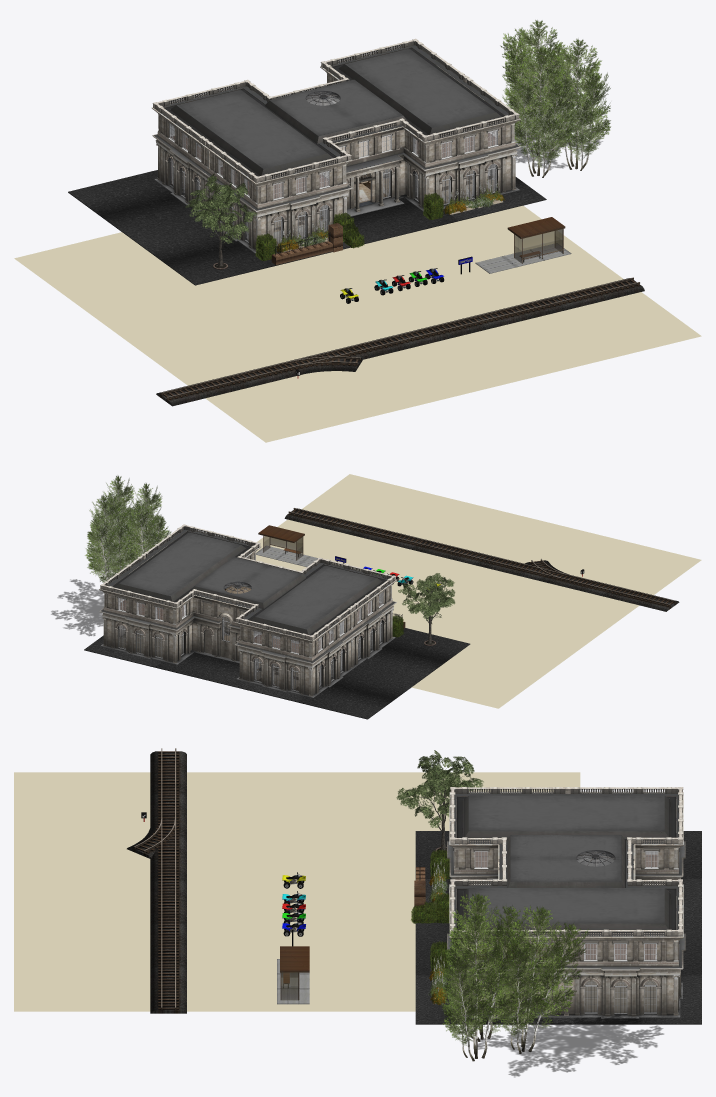
3 views of the same model, one above another, from view 1: azimuth 30°, elevation 25°; view 2: azimuth 150°, elevation 25°; view 3: azimuth 270°, elevation 25° (orthographic). The views are drawn at different scales.
Visible parts, largest first — view 1: Terrain 2,4, Compulsion Manor House (×16), Birch_Tree_1A (×11), Driveway, TRACKSTRAIGHT32 Rail (×6), Bus Stop, CP Young Oak Tree 3, Trinity Bay Manor 1, Train TRACKCURVE 01 prim, Trinity Bay Manor; view 2: Terrain 2,4, Compulsion Manor House (×20), Driveway, Birch_Tree_1A (×8), TRACKSTRAIGHT32 Rail (×6), CP Young Oak Tree 3, Tree Shadlow 25x25, Bus Stop, Trinity Bay Manor; view 3: Terrain 2,4, Compulsion Manor House (×19), Birch_Tree_1A (×10), TRACKSTRAIGHT32 Rail (×6), Driveway, Tree Shadlow 25x25, CP Young Oak Tree 3, Bus Stop, Trinity Bay Manor 1, Train TRACKCURVE 01 prim.
Boxes of the visible parts, bbox=[...] form: Terrain 2,4: bbox=[14, 205, 701, 442]; Compulsion Manor House (×16): bbox=[152, 48, 520, 253]; Birch_Tree_1A (×11): bbox=[500, 20, 610, 160]; Driveway: bbox=[68, 170, 546, 285]; TRACKSTRAIGHT32 Rail (×6): bbox=[156, 277, 644, 406]; Bus Stop: bbox=[475, 217, 571, 273]; CP Young Oak Tree 3: bbox=[185, 173, 257, 244]; Trinity Bay Manor 1: bbox=[255, 223, 342, 264]; Train TRACKCURVE 01 prim: bbox=[288, 356, 363, 373]; Trinity Bay Manor: bbox=[209, 184, 255, 249]; Terrain 2,4: bbox=[256, 474, 701, 708]; Compulsion Manor House (×20): bbox=[99, 531, 396, 697]; Driveway: bbox=[84, 628, 470, 719]; Birch_Tree_1A (×8): bbox=[85, 475, 171, 582]; TRACKSTRAIGHT32 Rail (×6): bbox=[284, 508, 679, 611]; CP Young Oak Tree 3: bbox=[398, 573, 455, 623]; Tree Shadlow 25x25: bbox=[51, 579, 104, 635]; Bus Stop: bbox=[256, 525, 317, 566]; Trinity Bay Manor: bbox=[353, 611, 390, 664]; Terrain 2,4: bbox=[14, 772, 580, 1011]; Compulsion Manor House (×19): bbox=[447, 787, 685, 1018]; Birch_Tree_1A (×10): bbox=[440, 893, 589, 1038]; TRACKSTRAIGHT32 Rail (×6): bbox=[150, 748, 186, 1013]; Driveway: bbox=[415, 831, 701, 1024]; Tree Shadlow 25x25: bbox=[477, 1014, 663, 1077]; CP Young Oak Tree 3: bbox=[396, 750, 483, 827]; Bus Stop: bbox=[277, 946, 309, 1004]; Trinity Bay Manor 1: bbox=[414, 849, 449, 907]; Train TRACKCURVE 01 prim: bbox=[127, 818, 178, 858].
Size of what is drawn, in the model's own units: 87.18 by 24.43 by 77.76.
Materials: 117 (113 with a texture image).
